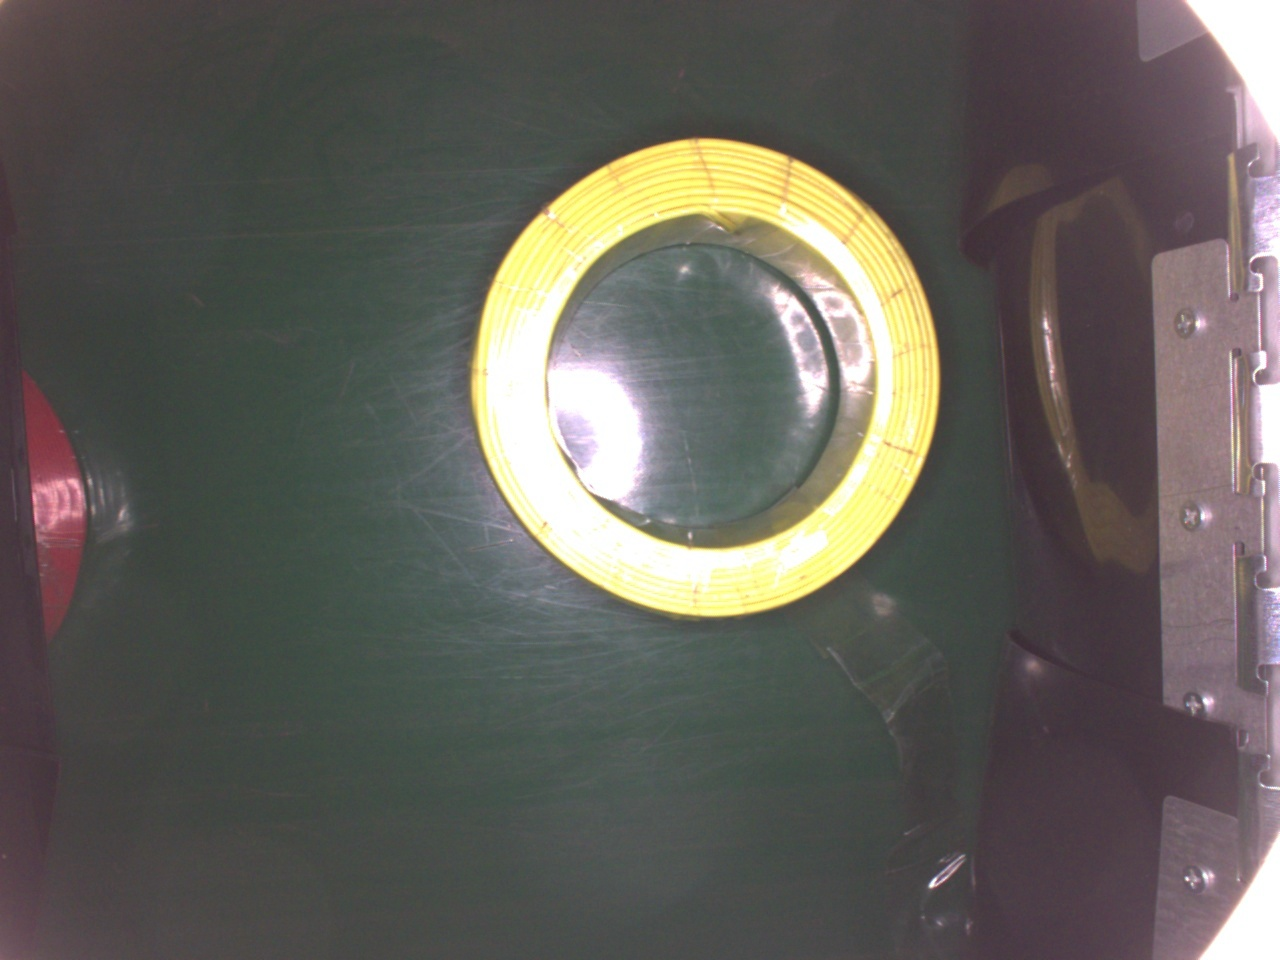yellow: (466, 131, 950, 624)
